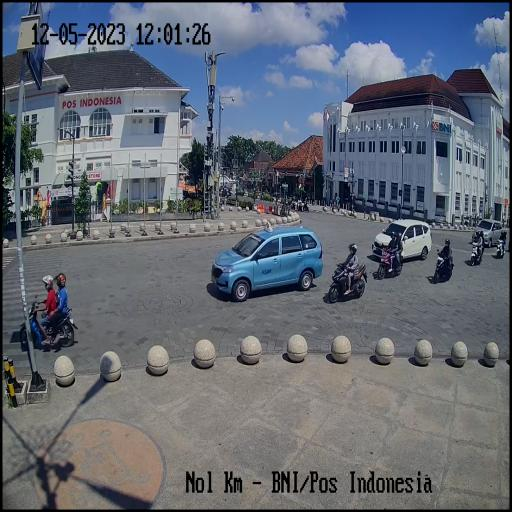mobil: (212, 226, 324, 298), (372, 213, 434, 262), (472, 219, 503, 246)
motor: (22, 297, 75, 362), (326, 260, 372, 307), (379, 240, 401, 284), (435, 247, 454, 291), (471, 240, 484, 268), (497, 240, 506, 260)
